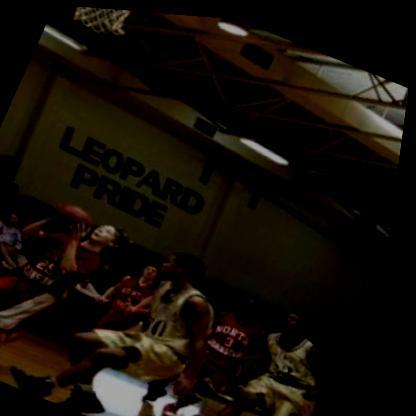basketball: (44, 189, 108, 247)
